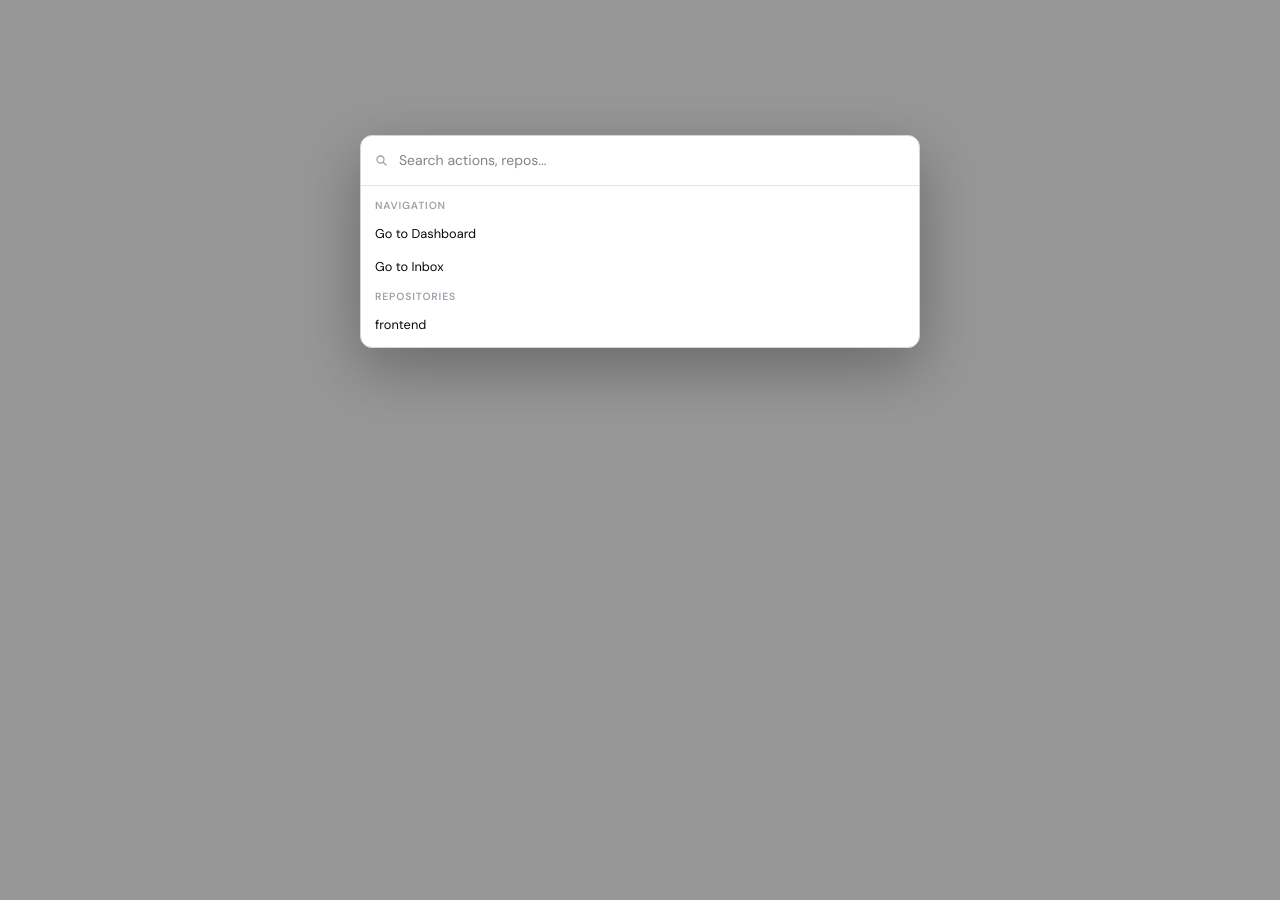
Scenario: CommandPalette › shows empty state when no actions match
Type "zzznomatch" into the field at (647, 160), box top-left (389, 136), bottom-right (905, 185)
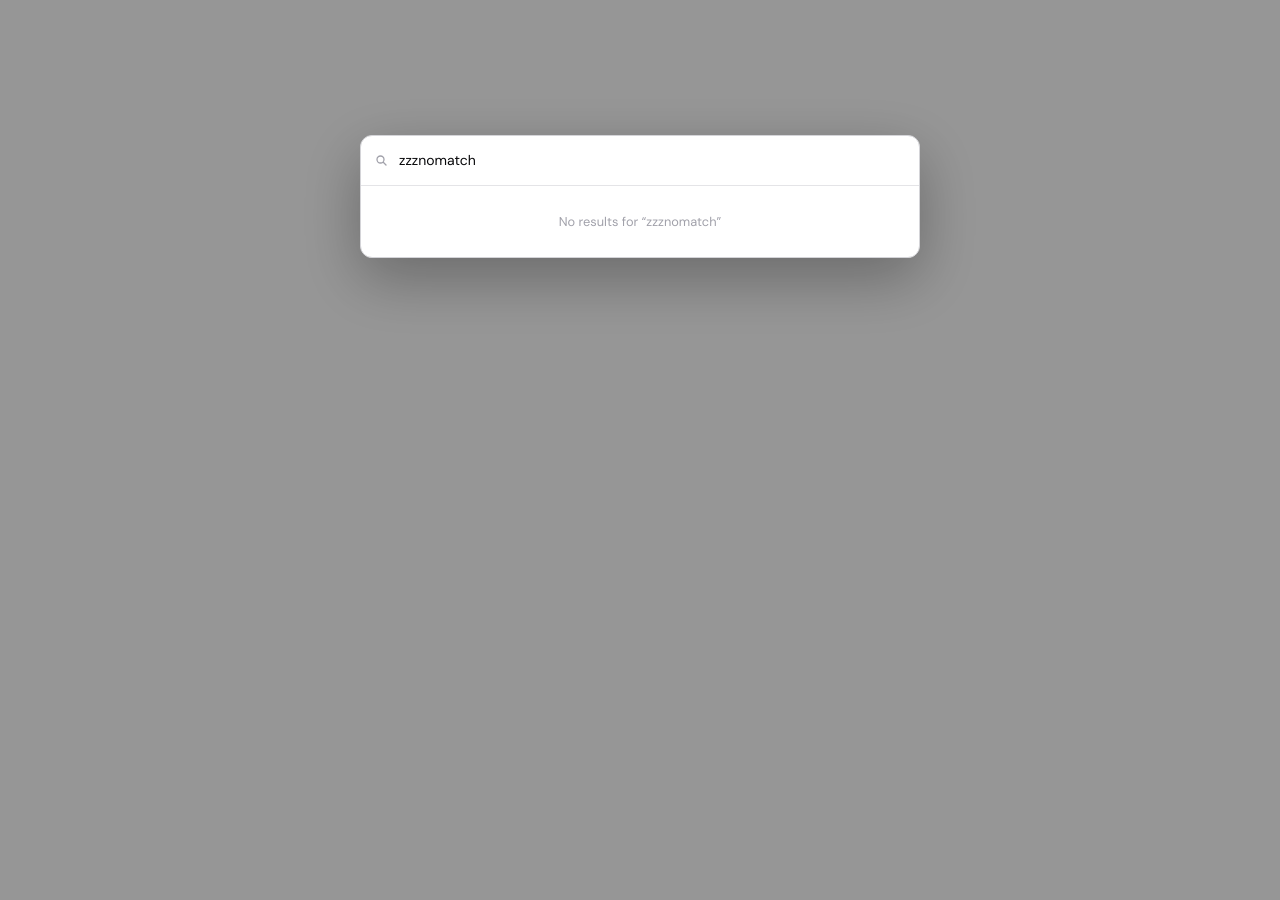
Result: the text "No results for “zzznomatch”" is shown at top-left (559, 213), bottom-right (721, 230)
